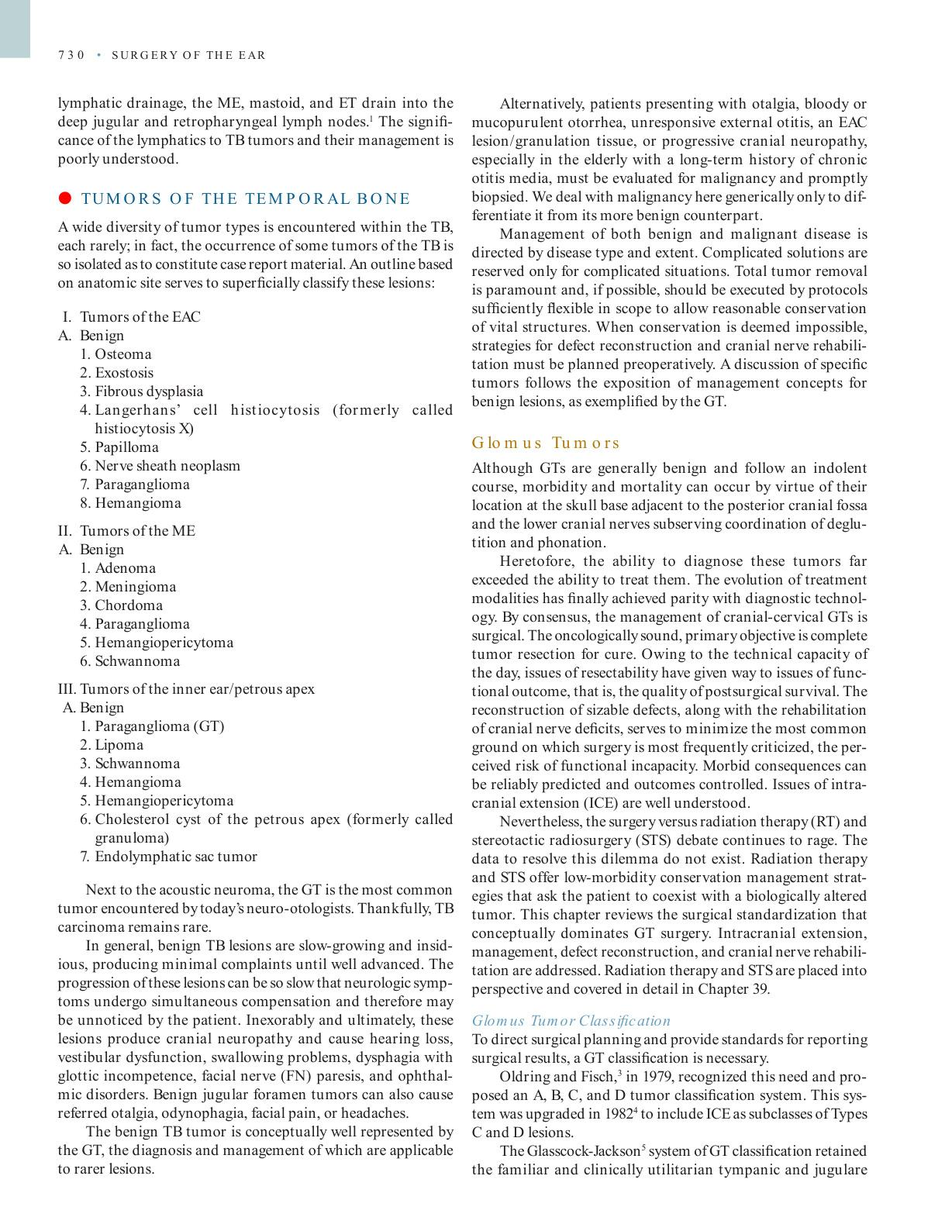header: (110, 48, 266, 61)
list: (55, 308, 456, 873)
section-heading: (80, 190, 411, 205)
sub-section-heading: (471, 1013, 673, 1029), (470, 433, 620, 450)
text: (470, 458, 870, 999), (468, 95, 869, 412), (54, 881, 456, 1176), (468, 1030, 870, 1180), (54, 218, 454, 293), (57, 94, 456, 168)
